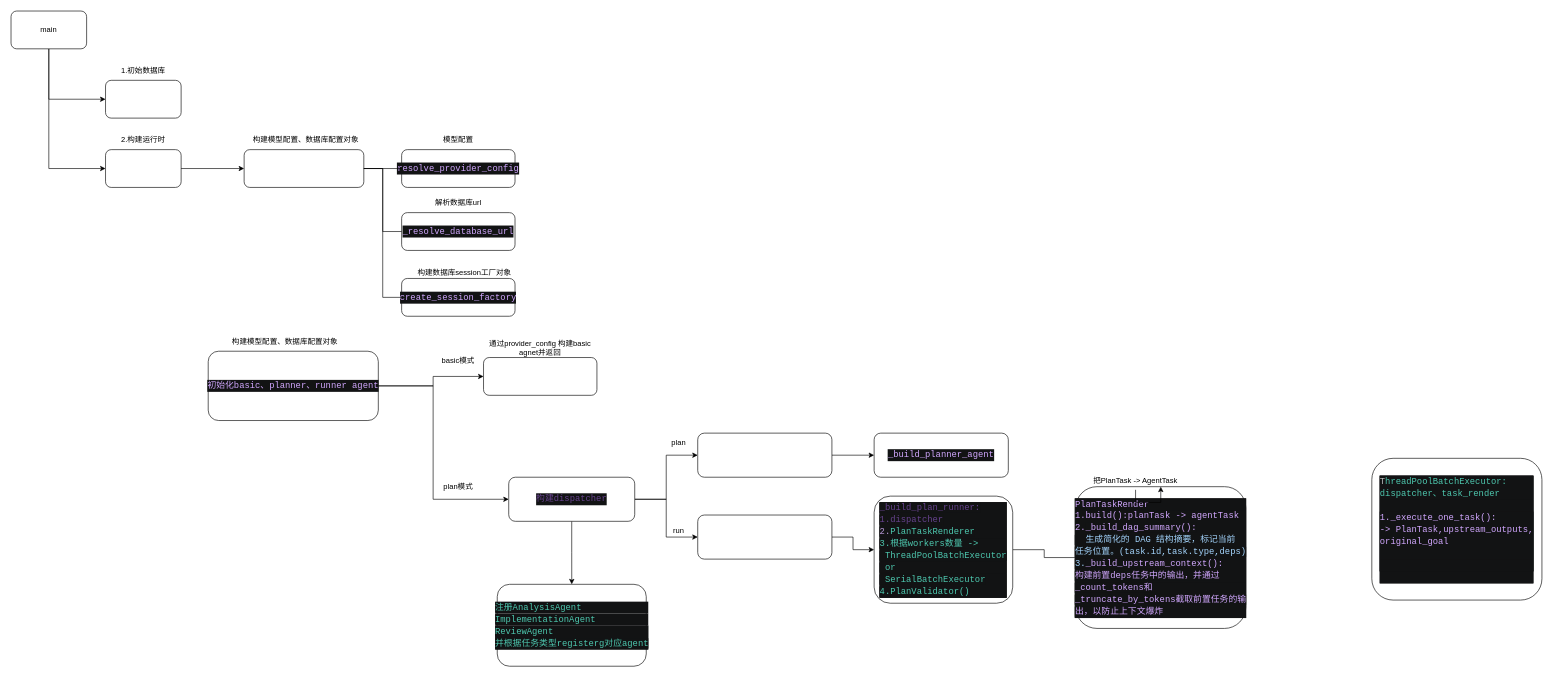
Image size: 1553x677. Some labels were removed from this diagram. Here are the shapes that lost their labels. From the top down, the box of each, then its label:
(105, 80, 181, 118): _run_init_db
(105, 149, 181, 187): build_runtime
(243, 149, 364, 187): build_service_context
(483, 357, 597, 395): _build_basic_agent
(697, 432, 832, 477): 构建planner
(697, 514, 832, 559): 构建runner
